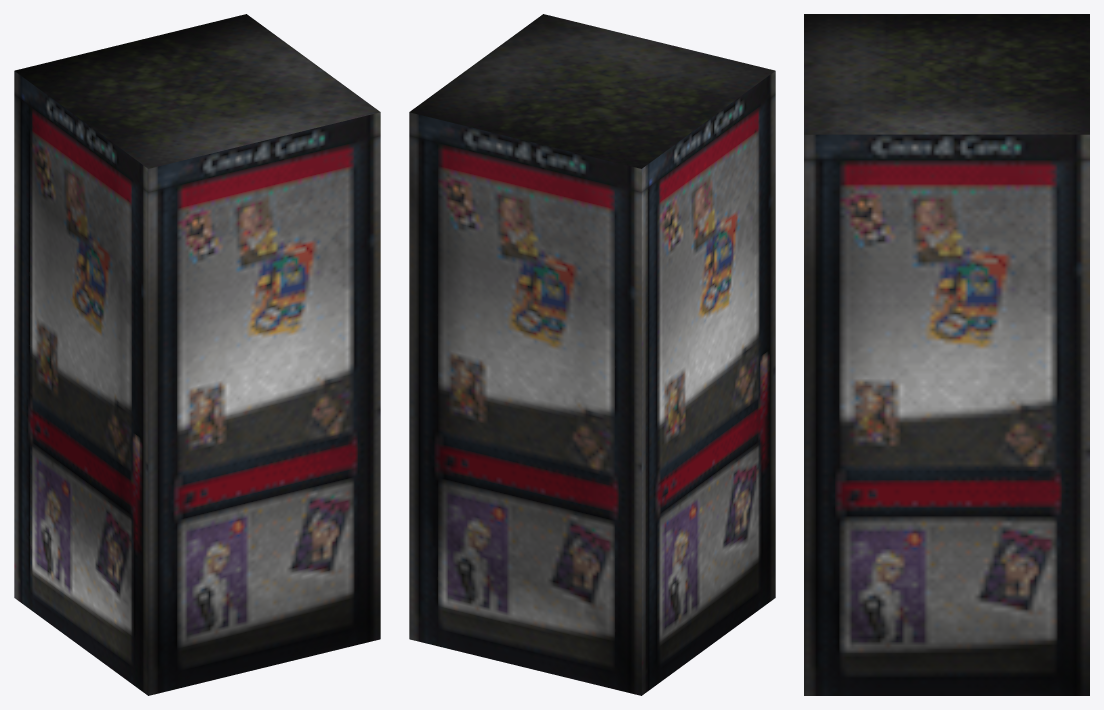
File: telephonebox0.fbx
The picture shows the model from 3 angles, left to right: view 1: azimuth 30°, elevation 25°; view 2: azimuth 150°, elevation 25°; view 3: azimuth 270°, elevation 25°; orthographic projection. The views are drawn at different scales.
Visible parts, largest first — view 1: telephonebox0; view 2: telephonebox0; view 3: telephonebox0.
Part boxes in pixels (box(x1,y1,x2,y2)): telephonebox0: box(14, 14, 380, 695); telephonebox0: box(409, 14, 775, 695); telephonebox0: box(804, 14, 1089, 695).
Bounding box in the file's own units: 108 × 108 × 234.
Materials: 1 (1 with a texture image).
